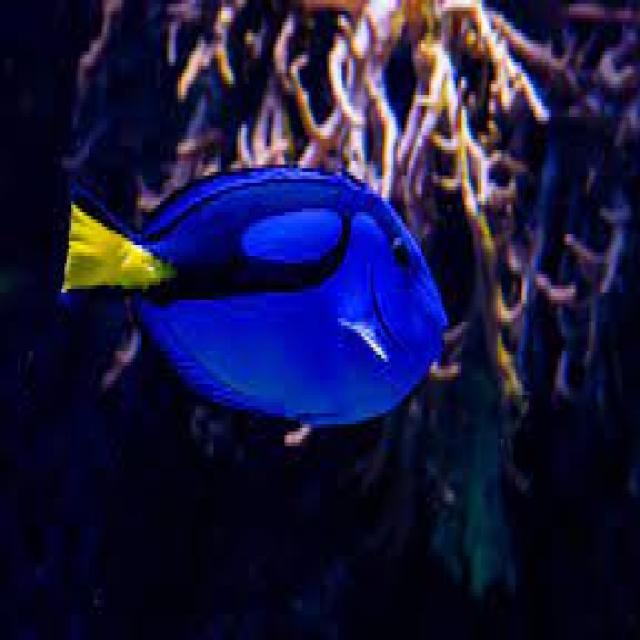BlueTang: (51, 149, 454, 460)
